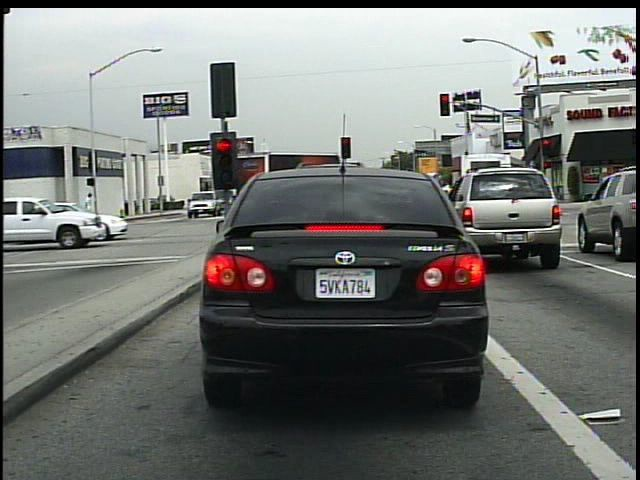person: (79, 188, 101, 223)
